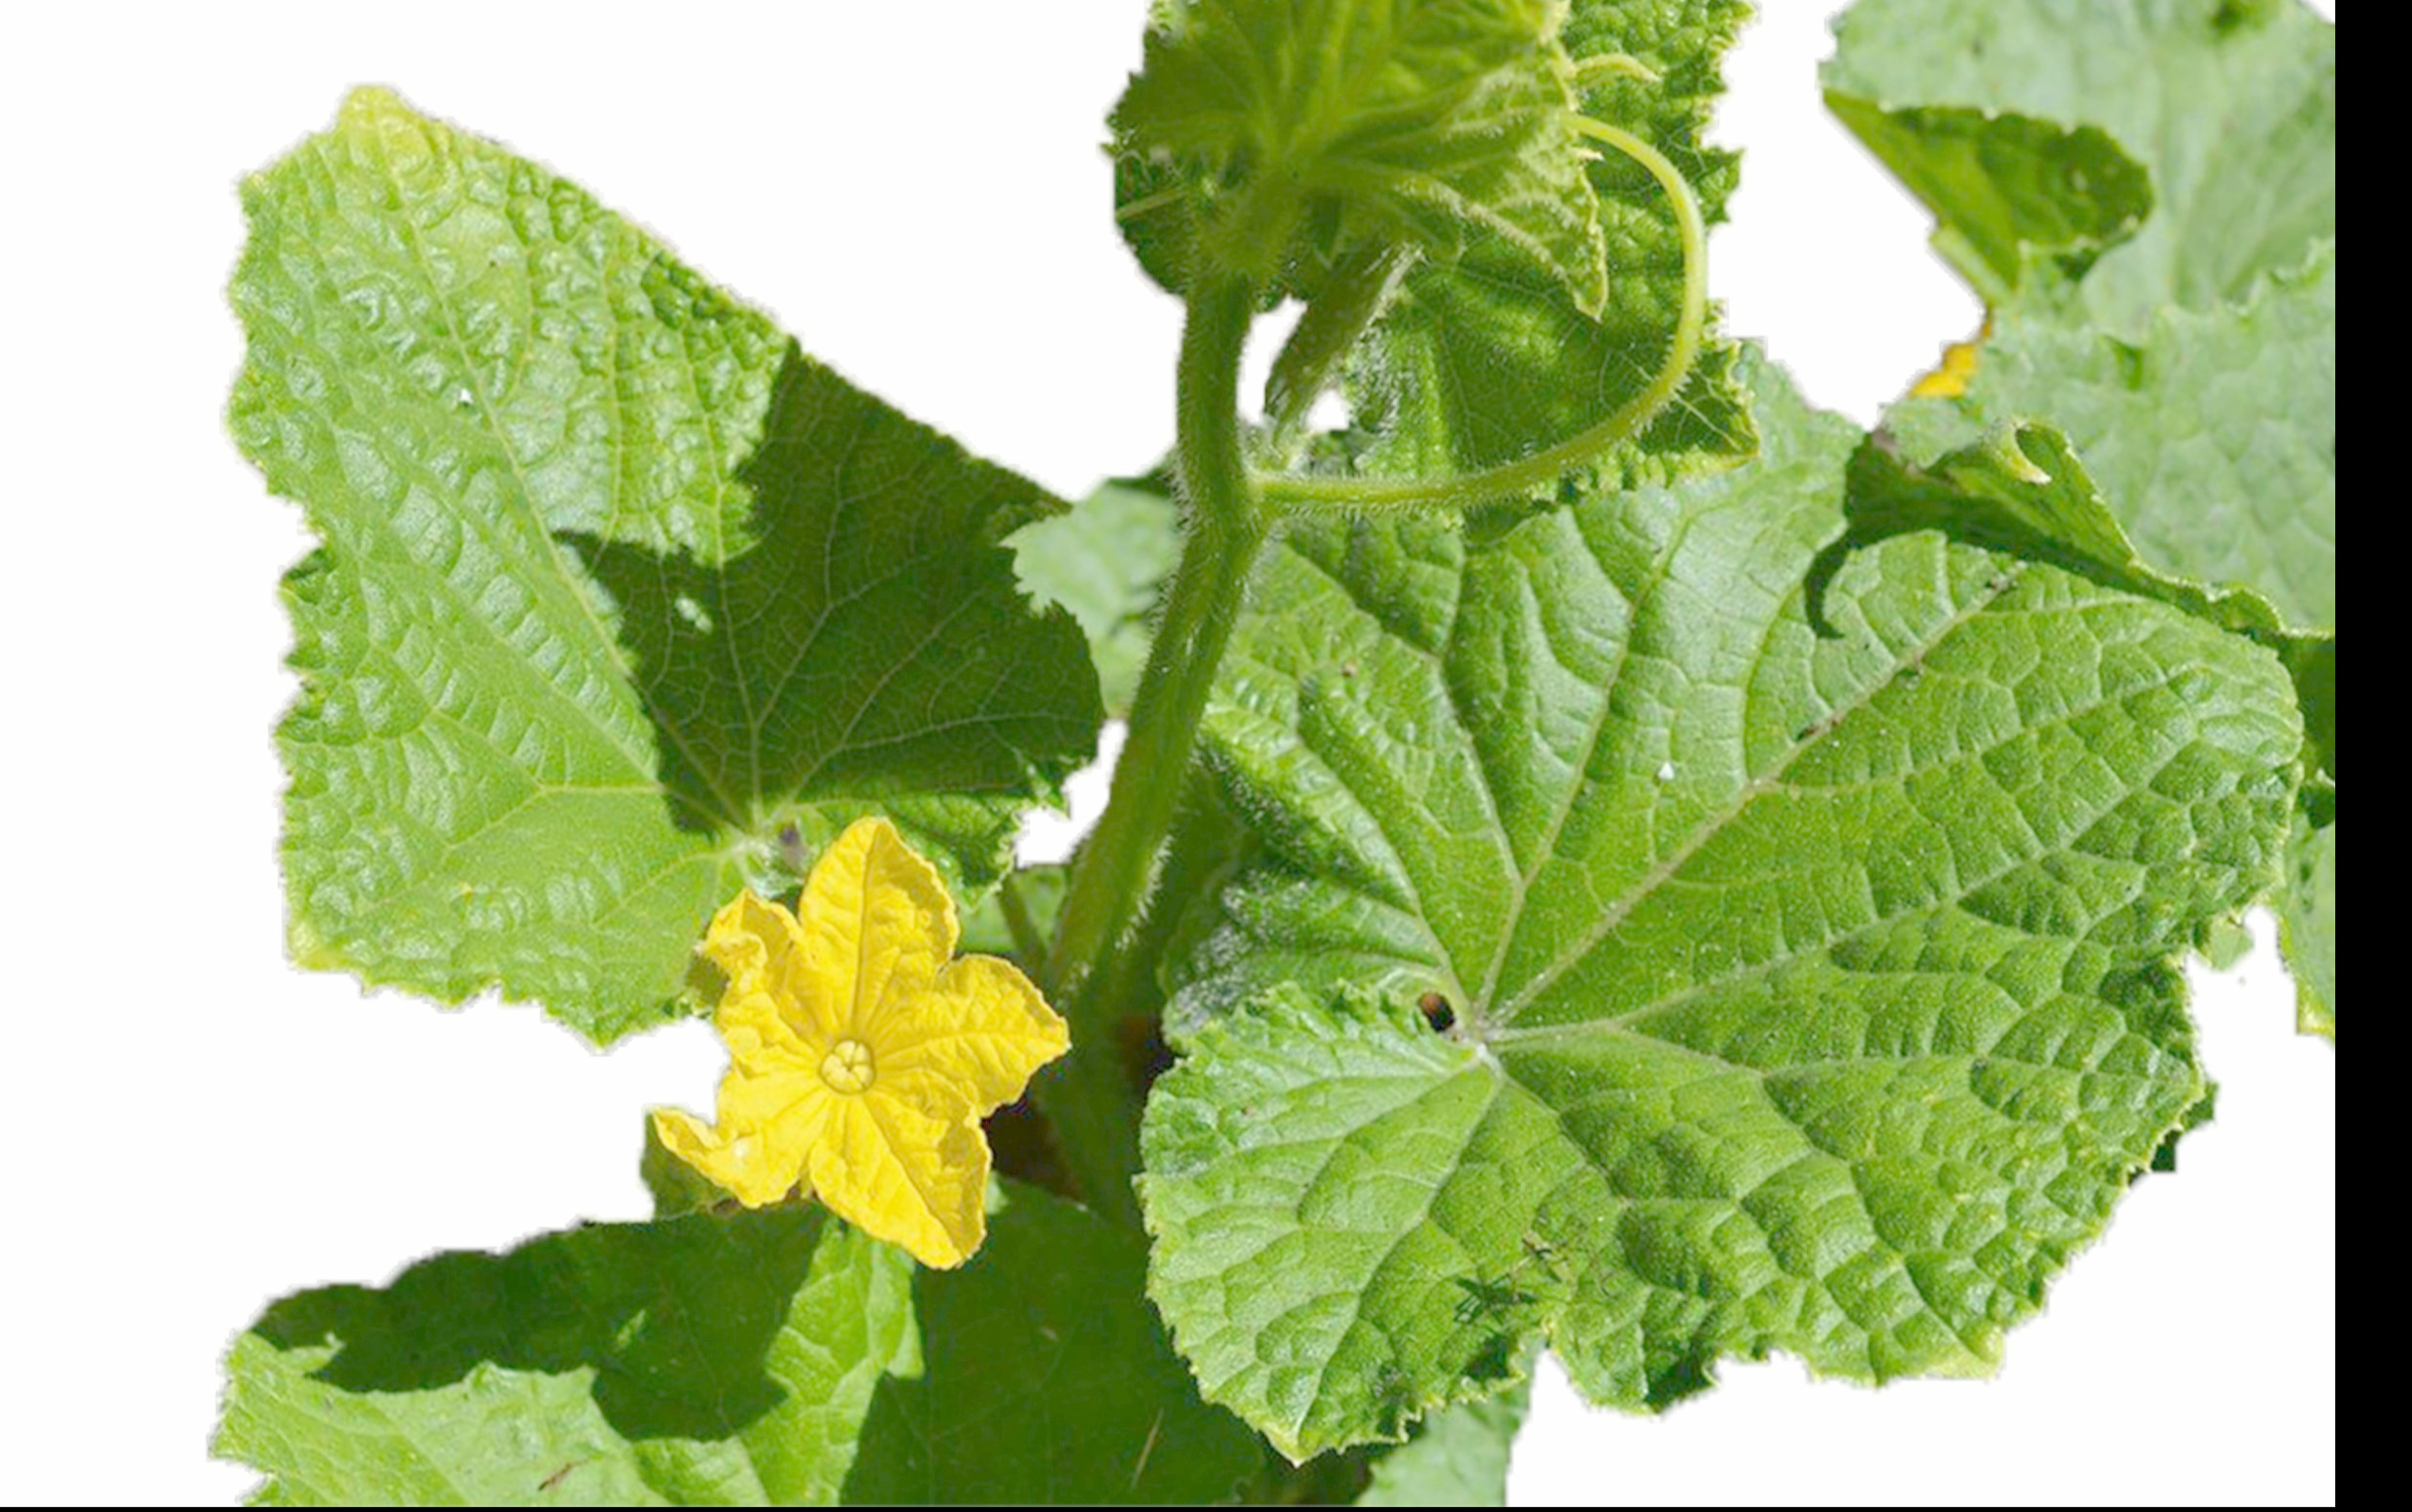cucumber_plant: (218, 75, 2325, 1507)
